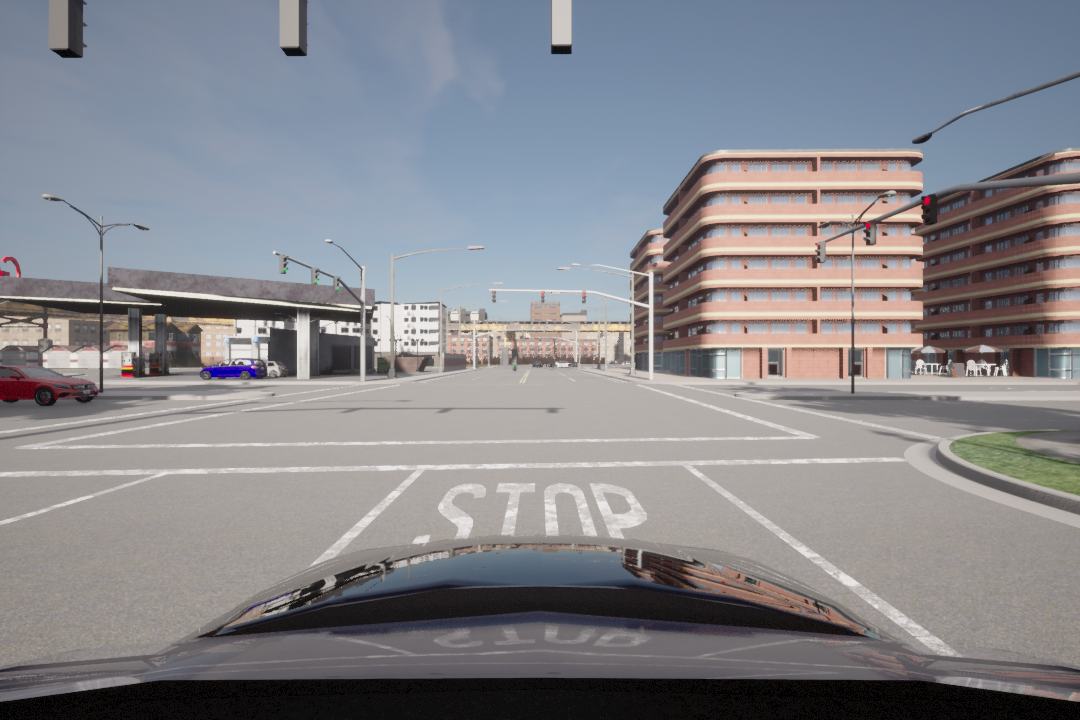TrafficLight: (919, 195, 938, 226), (862, 219, 882, 247), (815, 239, 827, 269), (310, 267, 322, 288), (278, 253, 287, 276), (334, 275, 342, 293), (580, 288, 587, 303), (540, 289, 547, 303), (492, 290, 498, 302)
